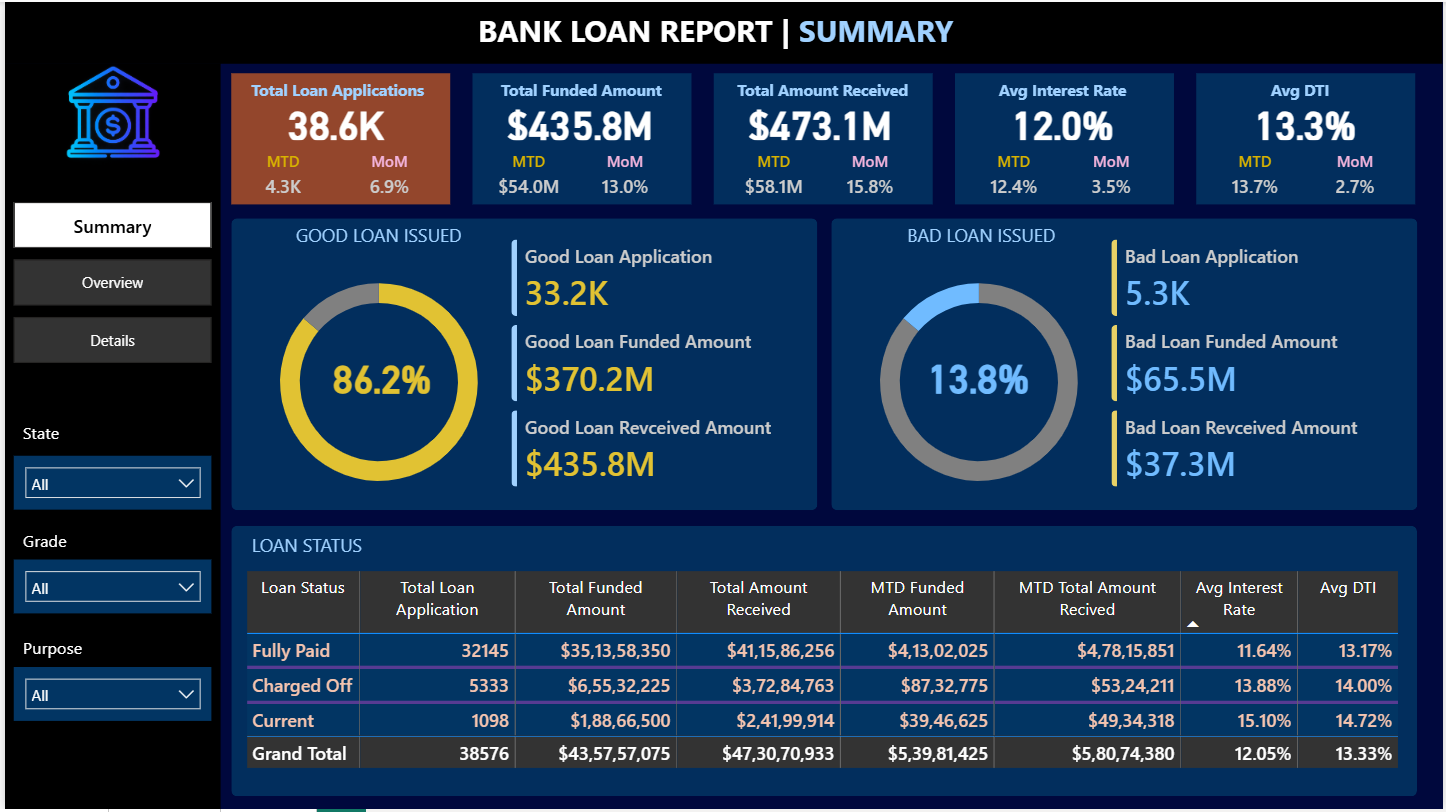

The page's visual inventory and layout, read from the dashboard file:
{"tool":"powerbi","page":{"name":"Summary","canvas":[1280,720],"ordinal":0},"visuals":[{"type":"shape","box":[0,0,1280,55],"z":0},{"type":"shape","box":[0,55,192,665],"z":1000},{"type":"textbox","box":[416,2,448,48],"z":2000},{"type":"shape","box":[202,64,195,117],"z":3000},{"type":"cardVisual","fields":{"Data":["bank_loan_data.Total Loan Application"]},"box":[224,89,142,39],"z":4000},{"type":"textbox","box":[208,64,176,32],"z":5000},{"type":"cardVisual","title":"MTD","fields":{"Data":["bank_loan_data.MTD Loan Applications"]},"box":[224,133,48,48],"z":6000},{"type":"cardVisual","title":"MoM","fields":{"Data":["bank_loan_data.MoM Loan Application"]},"box":[318,132,48,48],"z":7000},{"type":"shape","box":[416.8,64,195,117],"z":8000},{"type":"textbox","box":[425,64,176,32],"z":9000},{"type":"cardVisual","fields":{"Data":["bank_loan_data.Total Funded Amount"]},"box":[442,89,140,39],"z":10000},{"type":"cardVisual","title":"MTD","fields":{"Data":["bank_loan_data.MTD Funded Amount"]},"box":[432,132,69,48],"z":11000},{"type":"cardVisual","title":"MoM","fields":{"Data":["bank_loan_data.MoM Total Funded Amount"]},"box":[518,132,69,48],"z":12000},{"type":"shape","box":[631.5,64,195,117],"z":13000},{"type":"textbox","box":[640,64,176,32],"z":14000},{"type":"cardVisual","fields":{"Data":["bank_loan_data.Total Amount Received"]},"box":[656,89,140,39],"z":15000},{"type":"cardVisual","title":"MTD","fields":{"Data":["bank_loan_data.MTD Total Amount Recived"]},"box":[650,132,69,48],"z":16000},{"type":"cardVisual","title":"MoM","fields":{"Data":["bank_loan_data.MoM Total Amount Recived"]},"box":[736,132,69,48],"z":17000},{"type":"shape","box":[846.2,64,195,117],"z":18000},{"type":"shape","box":[1061,64,195,117],"z":19000},{"type":"textbox","box":[854,64,176,32],"z":20000},{"type":"cardVisual","fields":{"Data":["bank_loan_data.Avg Interest Rate"]},"box":[872,89,140,39],"z":21000},{"type":"cardVisual","title":"MoM","fields":{"Data":["bank_loan_data.MoM Avg Int Rate"]},"box":[951,132,69,48],"z":22000},{"type":"cardVisual","title":"MTD","fields":{"Data":["bank_loan_data.MTD Avg Int Amount"]},"box":[864,132,69,48],"z":23000},{"type":"textbox","box":[1065,64,176,32],"z":24000},{"type":"cardVisual","fields":{"Data":["bank_loan_data.Avg DTI"]},"box":[1088,89,140,39],"z":25000},{"type":"cardVisual","title":"MTD","fields":{"Data":["bank_loan_data.MTD Avg DTI"]},"box":[1079,132,69,48],"z":26000},{"type":"cardVisual","title":"MoM","fields":{"Data":["bank_loan_data.MoM Avg DTI"]},"box":[1168,132,69,48],"z":27000},{"type":"shape","box":[202,193,522,260],"z":28000},{"type":"shape","box":[736,193,522,260],"z":29000},{"type":"donutChart","fields":{"Category":["bank_loan_data.Good v Bad Loan"],"Y":["bank_loan_data.Total Loan Application"]},"box":[208,224,250,230],"z":30000},{"type":"cardVisual","fields":{"Data":["bank_loan_data.Good Loan %"]},"box":[272,311,128,48],"z":31000},{"type":"textbox","box":[245,192,176,32],"z":32000},{"type":"cardVisual","fields":{"Data":["bank_loan_data.Good Loan Application","bank_loan_data.Good Loan Funded Amount","bank_loan_data.Good Loan Revceived Amount"]},"box":[434,195,288,256],"z":33000},{"type":"donutChart","fields":{"Category":["bank_loan_data.Good v Bad Loan"],"Y":["bank_loan_data.Total Loan Application"]},"box":[742,224,250,230],"z":34000},{"type":"textbox","box":[782,192,176,32],"z":35000},{"type":"cardVisual","fields":{"Data":["bank_loan_data.Bad Loan %"]},"box":[803,311,128,48],"z":36000},{"type":"cardVisual","fields":{"Data":["bank_loan_data.Bad Loan Application","bank_loan_data.Bad Loan Funded Amount","bank_loan_data.Bad Loan Revceived Amount"]},"box":[968,195,288,256],"z":37000},{"type":"shape","box":[202,466,1056,241],"z":38000},{"type":"tableEx","fields":{"Values":["bank_loan_data.loan_status","bank_loan_data.Total Loan Application","bank_loan_data.Total Funded Amount","bank_loan_data.Total Amount Received","bank_loan_data.MTD Funded Amount","bank_loan_data.MTD Total Amount Recived","bank_loan_data.Avg Interest Rate","bank_loan_data.Avg DTI"]},"box":[209,502,1040,193],"z":39000},{"type":"textbox","box":[210,467,176,32],"z":40000},{"type":"slicer","fields":{"Values":["bank_loan_data.address_state"]},"box":[8,404,176,48],"z":41000},{"type":"textbox","box":[11,368,64,32],"z":42000},{"type":"slicer","fields":{"Values":["bank_loan_data.grade"]},"box":[8,496,176,48],"z":43000},{"type":"textbox","box":[11,464,64,32],"z":44000},{"type":"slicer","fields":{"Values":["bank_loan_data.purpose"]},"box":[8,592,176,48],"z":45000},{"type":"textbox","box":[11,560,80,32],"z":46000},{"type":"image","box":[32,41,128,112],"z":47000},{"type":"pageNavigator","box":[8,178,176,144],"z":48000}]}

Visuals, with their boxes in screenshot pixels (x1, y1, x2, y2), scaled from the page's 1280x720 canvas onto the 1446x812 screenshot:
shape: {"left": 0, "top": 0, "right": 1445, "bottom": 62}
shape: {"left": 0, "top": 62, "right": 217, "bottom": 811}
textbox: {"left": 470, "top": 2, "right": 976, "bottom": 56}
shape: {"left": 228, "top": 72, "right": 448, "bottom": 204}
cardVisual - bank_loan_data.Total Loan Application: {"left": 253, "top": 100, "right": 413, "bottom": 144}
textbox: {"left": 235, "top": 72, "right": 434, "bottom": 108}
"MTD" cardVisual: {"left": 253, "top": 150, "right": 307, "bottom": 204}
"MoM" cardVisual: {"left": 359, "top": 149, "right": 413, "bottom": 203}
shape: {"left": 471, "top": 72, "right": 691, "bottom": 204}
textbox: {"left": 480, "top": 72, "right": 679, "bottom": 108}
cardVisual - bank_loan_data.Total Funded Amount: {"left": 499, "top": 100, "right": 657, "bottom": 144}
"MTD" cardVisual: {"left": 488, "top": 149, "right": 566, "bottom": 203}
"MoM" cardVisual: {"left": 585, "top": 149, "right": 663, "bottom": 203}
shape: {"left": 713, "top": 72, "right": 934, "bottom": 204}
textbox: {"left": 723, "top": 72, "right": 922, "bottom": 108}
cardVisual - bank_loan_data.Total Amount Received: {"left": 741, "top": 100, "right": 899, "bottom": 144}
"MTD" cardVisual: {"left": 734, "top": 149, "right": 812, "bottom": 203}
"MoM" cardVisual: {"left": 831, "top": 149, "right": 909, "bottom": 203}
shape: {"left": 956, "top": 72, "right": 1176, "bottom": 204}
shape: {"left": 1199, "top": 72, "right": 1419, "bottom": 204}
textbox: {"left": 965, "top": 72, "right": 1164, "bottom": 108}
cardVisual - bank_loan_data.Avg Interest Rate: {"left": 985, "top": 100, "right": 1143, "bottom": 144}
"MoM" cardVisual: {"left": 1074, "top": 149, "right": 1152, "bottom": 203}
"MTD" cardVisual: {"left": 976, "top": 149, "right": 1054, "bottom": 203}
textbox: {"left": 1203, "top": 72, "right": 1402, "bottom": 108}
cardVisual - bank_loan_data.Avg DTI: {"left": 1229, "top": 100, "right": 1387, "bottom": 144}
"MTD" cardVisual: {"left": 1219, "top": 149, "right": 1297, "bottom": 203}
"MoM" cardVisual: {"left": 1319, "top": 149, "right": 1397, "bottom": 203}
shape: {"left": 228, "top": 218, "right": 818, "bottom": 511}
shape: {"left": 831, "top": 218, "right": 1421, "bottom": 511}
donutChart - bank_loan_data.Good v Bad Loan x bank_loan_data.Total Loan Application: {"left": 235, "top": 253, "right": 517, "bottom": 512}
cardVisual - bank_loan_data.Good Loan %: {"left": 307, "top": 351, "right": 452, "bottom": 405}
textbox: {"left": 277, "top": 217, "right": 476, "bottom": 253}
cardVisual - bank_loan_data.Good Loan Application x bank_loan_data.Good Loan Funded Amount: {"left": 490, "top": 220, "right": 816, "bottom": 509}
donutChart - bank_loan_data.Good v Bad Loan x bank_loan_data.Total Loan Application: {"left": 838, "top": 253, "right": 1121, "bottom": 512}
textbox: {"left": 883, "top": 217, "right": 1082, "bottom": 253}
cardVisual - bank_loan_data.Bad Loan %: {"left": 907, "top": 351, "right": 1052, "bottom": 405}
cardVisual - bank_loan_data.Bad Loan Application x bank_loan_data.Bad Loan Funded Amount: {"left": 1094, "top": 220, "right": 1419, "bottom": 509}
shape: {"left": 228, "top": 526, "right": 1421, "bottom": 797}
tableEx - bank_loan_data.loan_status x bank_loan_data.Total Loan Application: {"left": 236, "top": 566, "right": 1411, "bottom": 784}
textbox: {"left": 237, "top": 527, "right": 436, "bottom": 563}
slicer - bank_loan_data.address_state: {"left": 9, "top": 456, "right": 208, "bottom": 510}
textbox: {"left": 12, "top": 415, "right": 85, "bottom": 451}
slicer - bank_loan_data.grade: {"left": 9, "top": 559, "right": 208, "bottom": 614}
textbox: {"left": 12, "top": 523, "right": 85, "bottom": 559}
slicer - bank_loan_data.purpose: {"left": 9, "top": 668, "right": 208, "bottom": 722}
textbox: {"left": 12, "top": 632, "right": 103, "bottom": 668}
image: {"left": 36, "top": 46, "right": 181, "bottom": 173}
pageNavigator: {"left": 9, "top": 201, "right": 208, "bottom": 363}
